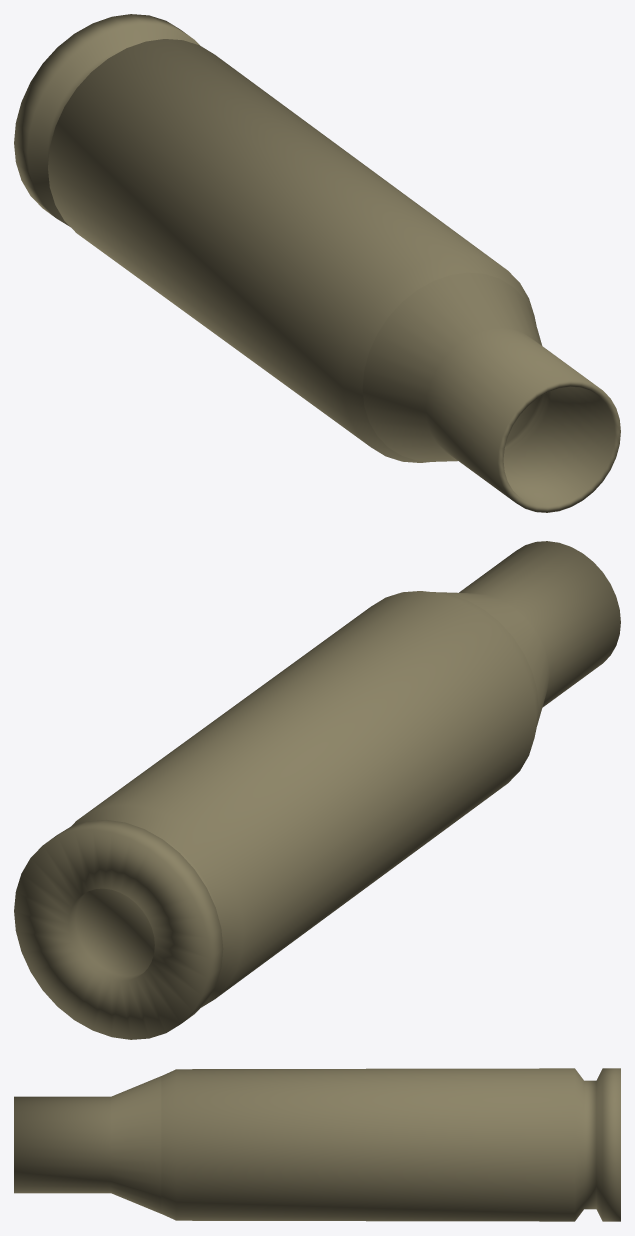
Rendered from casing_545x39.glb.
3 views of the same model, one above another, from view 1: azimuth 30°, elevation 25°; view 2: azimuth 150°, elevation 25°; view 3: azimuth 270°, elevation 25° (orthographic). The views are drawn at different scales.
Visible parts, largest first — view 1: casing_545x39; view 2: casing_545x39; view 3: casing_545x39.
Boxes of the visible parts, x1,y1,x2,y2 form: casing_545x39: (14,14,620,512); casing_545x39: (14,541,620,1039); casing_545x39: (14,1068,620,1221).
Size of the model in its own units: 0.01 by 0.01 by 0.0396.
